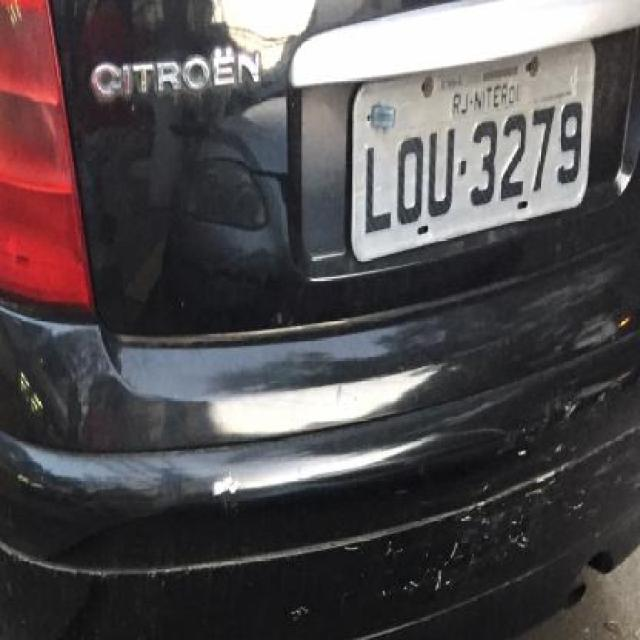old_plate: (342, 33, 602, 270)
